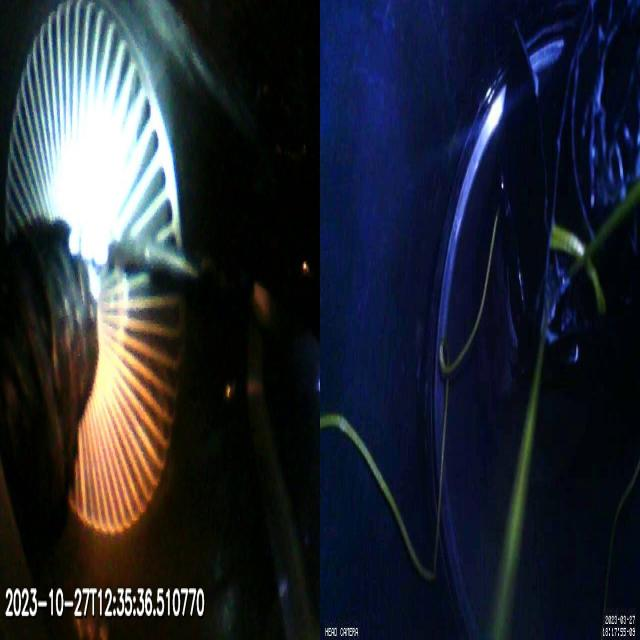white-dots: (66, 227, 109, 268)
